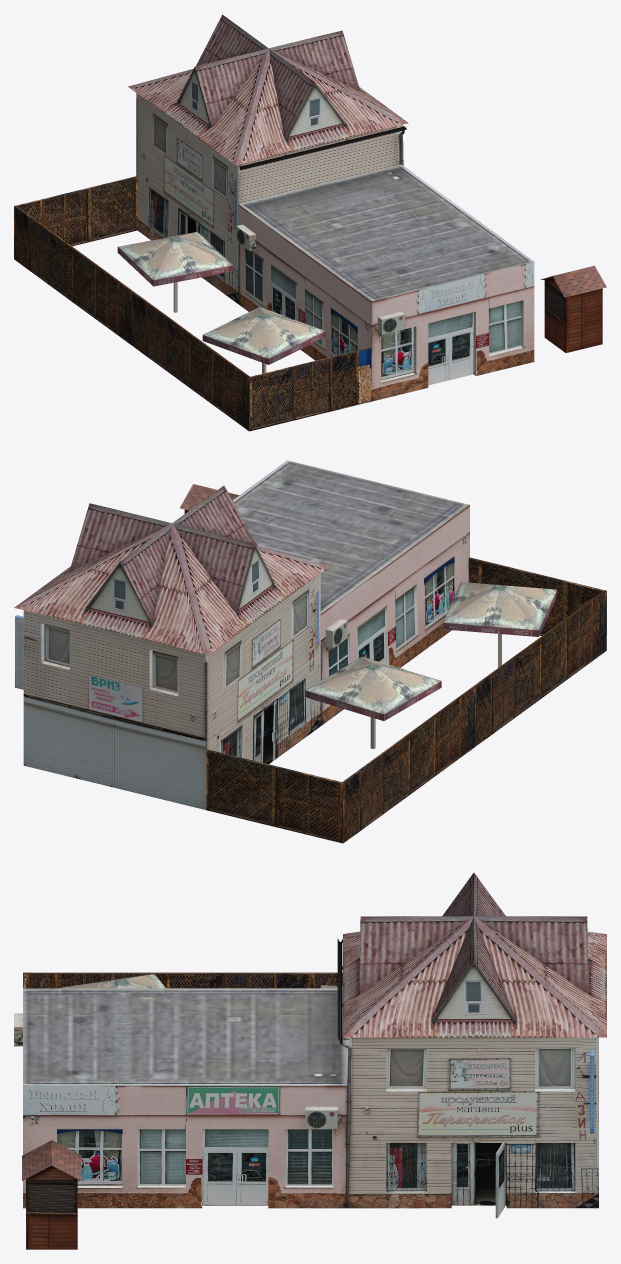
File: roadside_shop_and_cafe_updated (1).glb
The picture shows the model from 3 angles, top to bottom: view 1: azimuth 30°, elevation 25°; view 2: azimuth 150°, elevation 25°; view 3: azimuth 270°, elevation 25°; orthographic projection. The views are drawn at different scales.
Parts seen in each view (by area): view 1: roadsideshop, booth; view 2: roadsideshop, booth; view 3: roadsideshop, booth.
Boxes of the visible parts, left/top/right/bottom form: roadsideshop: left=14, top=14, right=534, bottom=431; booth: left=541, top=265, right=606, bottom=352; roadsideshop: left=14, top=460, right=606, bottom=843; booth: left=180, top=484, right=239, bottom=513; roadsideshop: left=14, top=872, right=606, bottom=1218; booth: left=22, top=1140, right=81, bottom=1249.
Bounding box in the file's own units: 351 × 187 × 412.
Materials: 1 (1 with a texture image).
